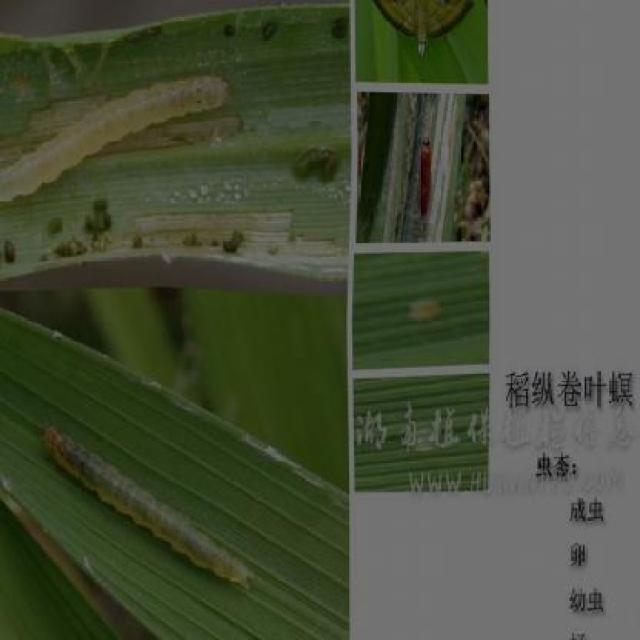leaf-folder: (28, 396, 268, 602), (0, 56, 238, 213), (402, 116, 444, 232), (398, 275, 451, 331)
